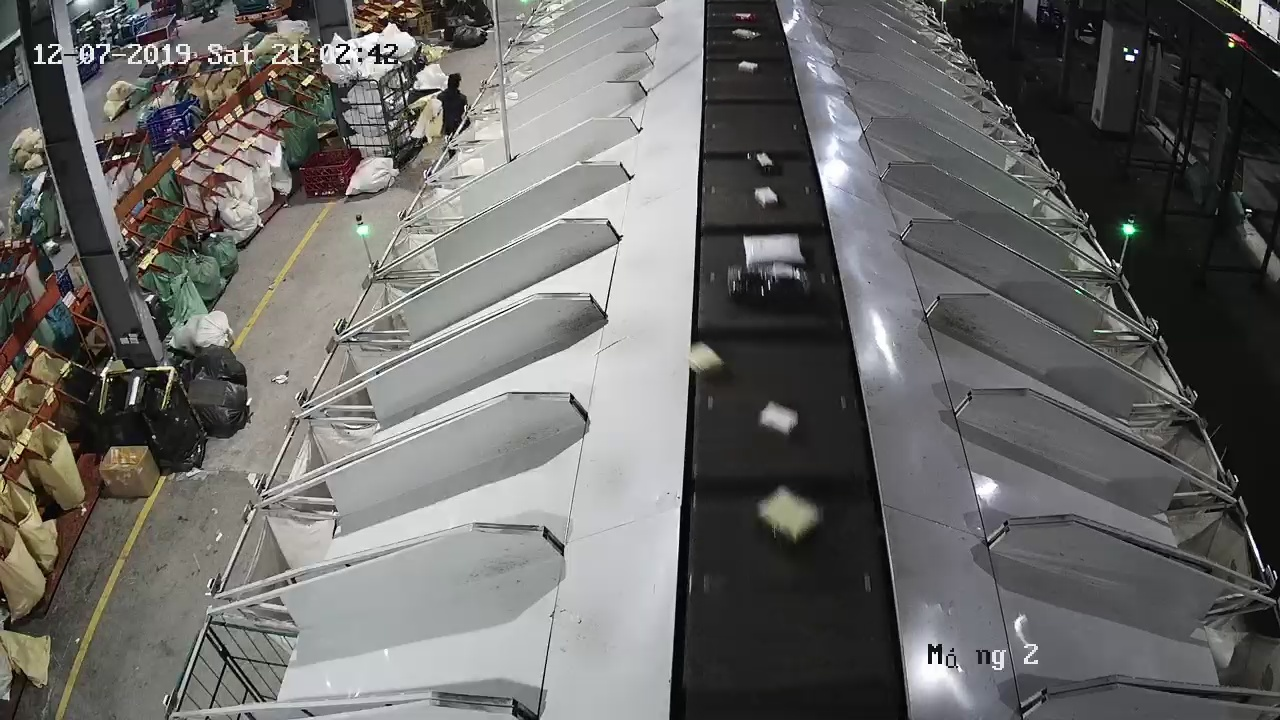parcel: (683, 338, 726, 380)
